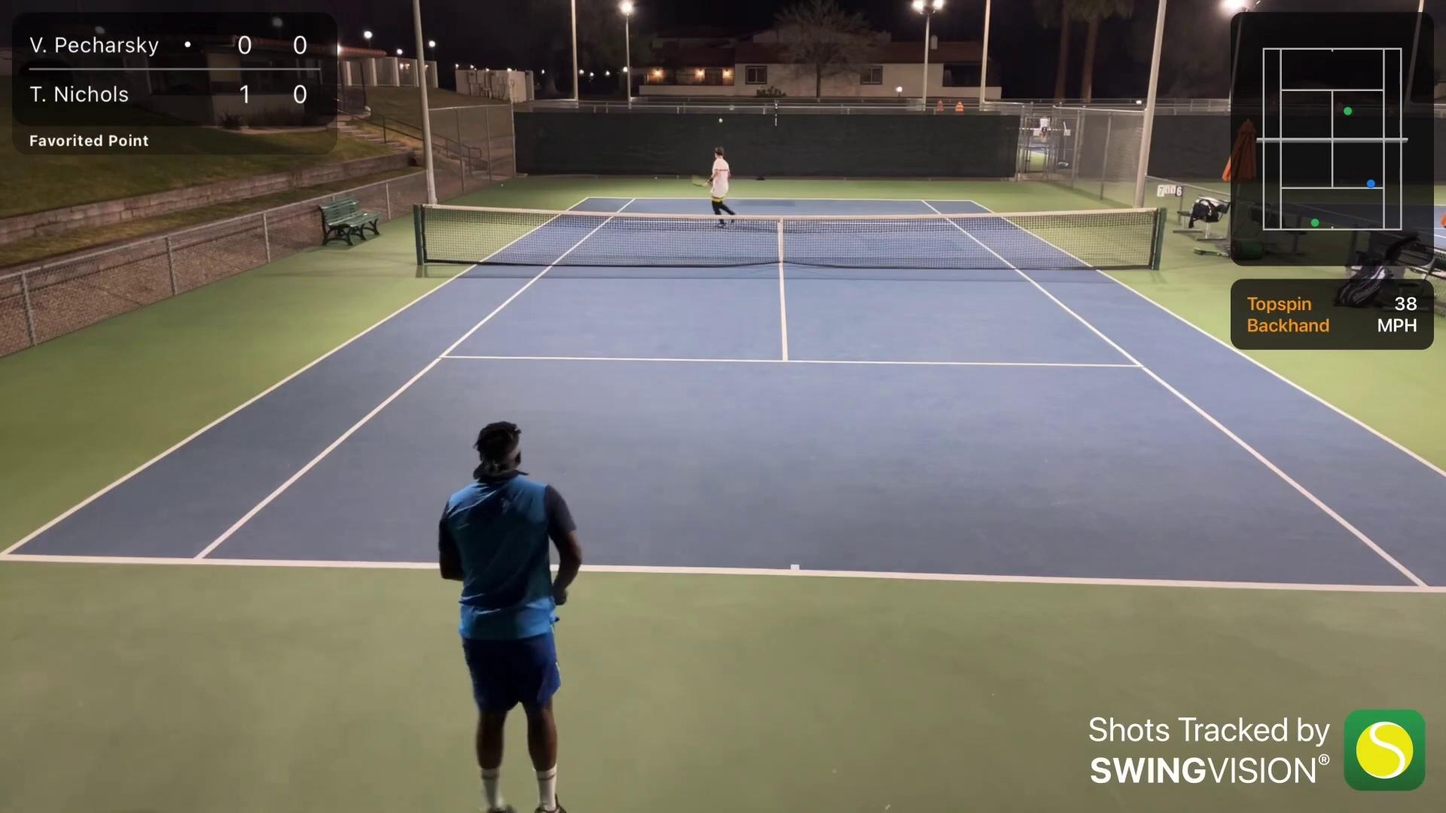ball: (718, 117, 723, 123)
